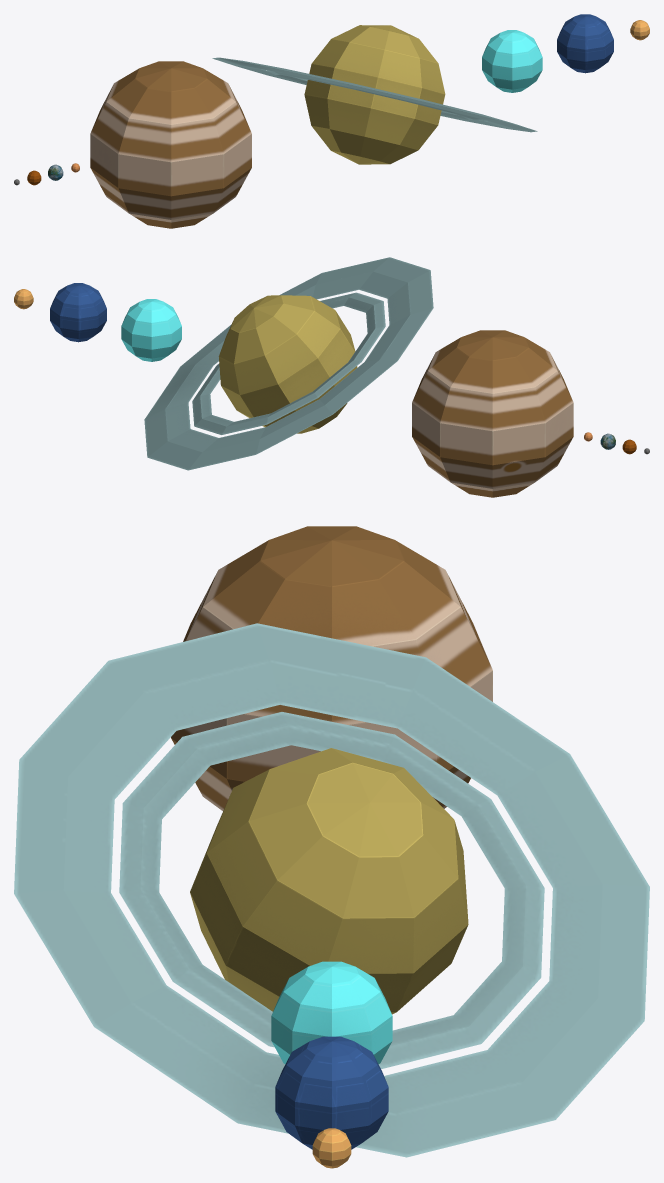
Rendered from Planets.obj.
The picture shows the model from 3 angles, top to bottom: view 1: azimuth 30°, elevation 25°; view 2: azimuth 150°, elevation 25°; view 3: azimuth 270°, elevation 25°; orthographic projection. The views are drawn at different scales.
Bounding box in the file's own units: 32.86 × 7.55 × 14.32.
